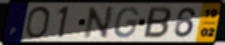1: (56, 5, 71, 40)
6: (173, 7, 197, 39)
B: (142, 6, 173, 40)
G: (113, 6, 140, 39)
N: (83, 6, 116, 40)
O: (23, 5, 52, 40)
